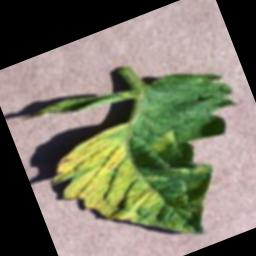Leaf_Mold: (40, 117, 185, 256)
